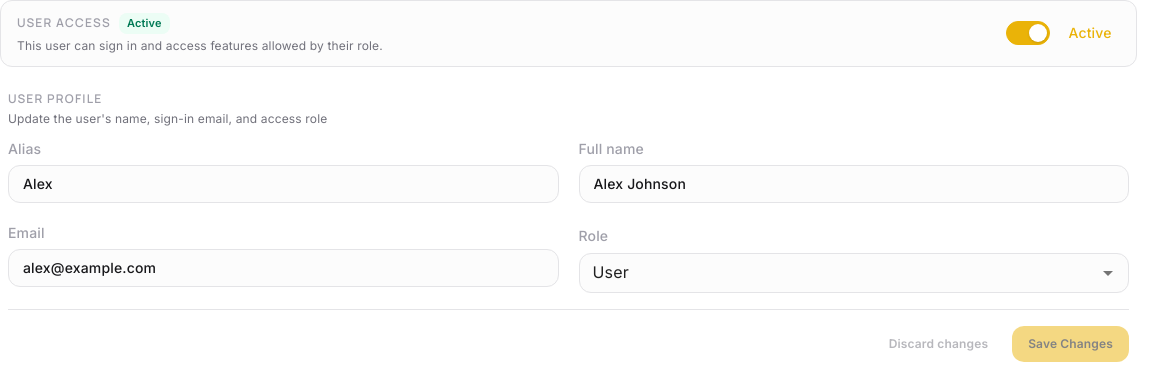
EditUserForm › shows an optimistic-concurrency error returned by the server
Replace the text in the field labelled "Alias" with "Updated" at [283, 184], box x1=8 y1=164 x2=558 y2=202
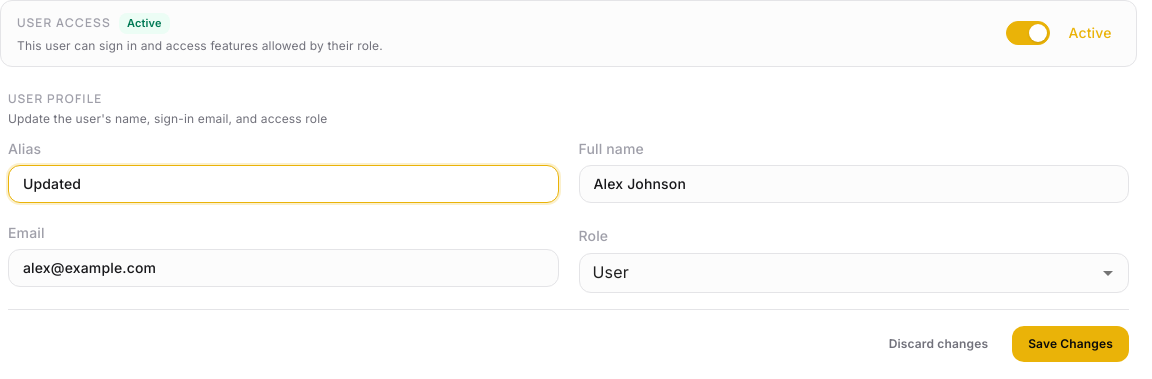
Click the button "Save Changes" at [1071, 344], box x1=1012 y1=326 x2=1129 y2=362
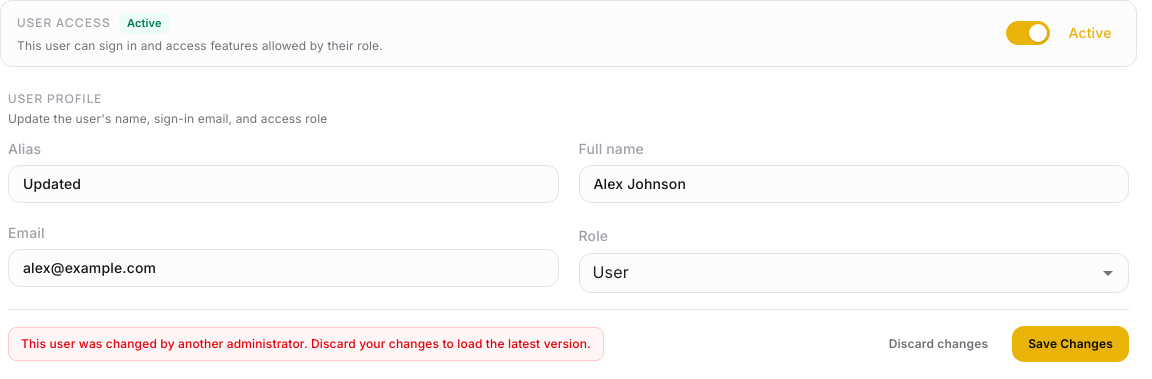
expect the message shows "This user was changed by another administrator.": met, box x1=21 y1=336 x2=591 y2=350
